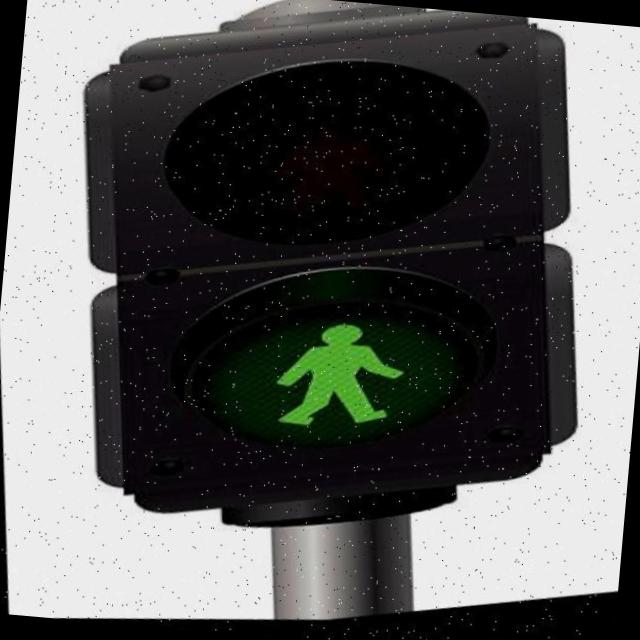green_light: (238, 292, 427, 454)
